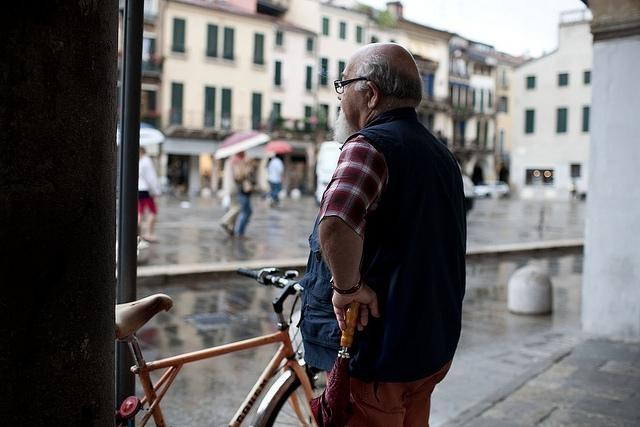bicycle: (115, 264, 328, 422)
car: (458, 162, 479, 210), (473, 179, 513, 199)
